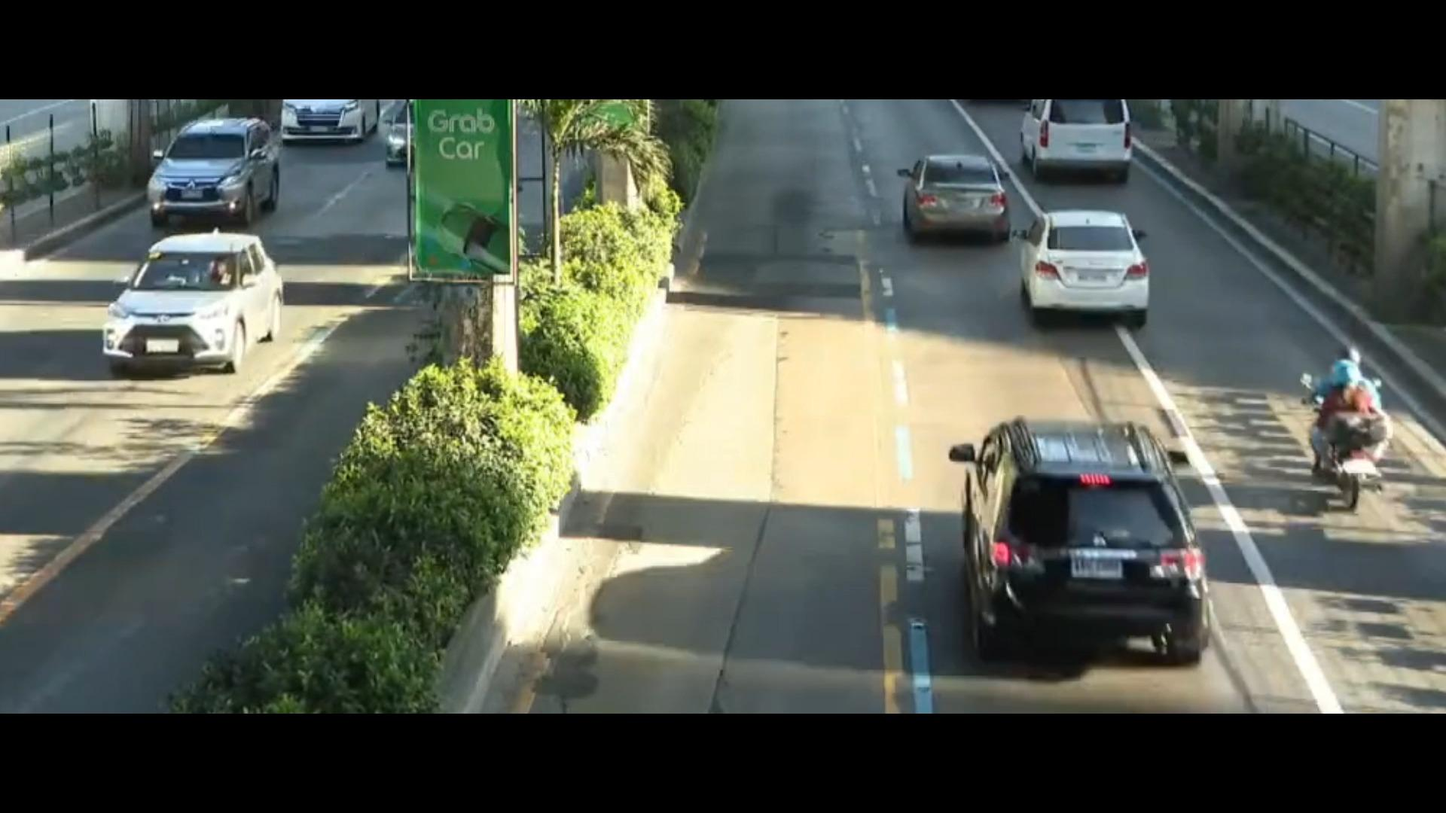Motorcycle: (1305, 333, 1424, 526)
SUV: (927, 413, 1228, 672), (137, 96, 300, 232)
Sedan: (88, 232, 299, 380), (1013, 189, 1164, 330), (896, 143, 1021, 256)
